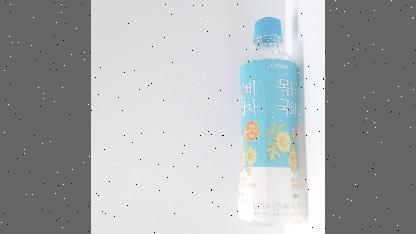Plastic Bottle: (238, 16, 305, 226)
